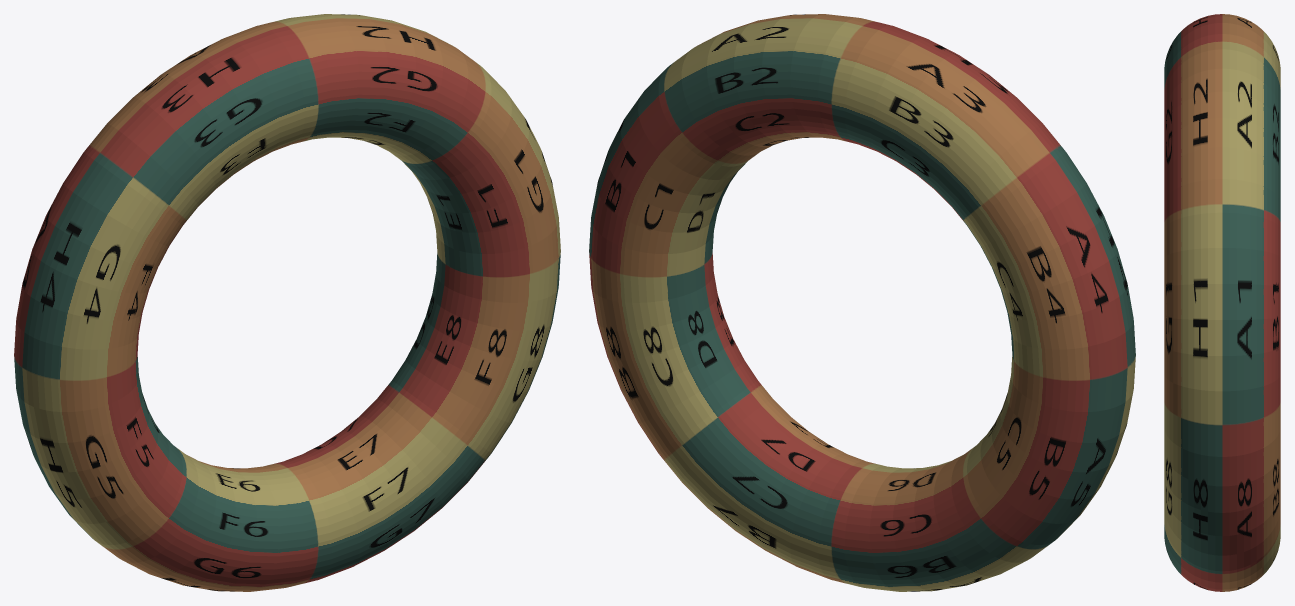
Rendered from texture_torus_R19_r14.glb.
The picture shows the model from 3 angles, left to right: view 1: azimuth 30°, elevation 25°; view 2: azimuth 150°, elevation 25°; view 3: azimuth 270°, elevation 25°; orthographic projection. The views are drawn at different scales.
Visible parts, largest first — view 1: world; view 2: world; view 3: world.
Part boxes in pixels (x1,y1,x2,y2): world: (14, 14, 560, 591); world: (589, 14, 1135, 591); world: (1164, 14, 1280, 591).
Bounding box in the file's own units: 28.4 × 28.34 × 5.72.
Materials: 1 (1 with a texture image).
